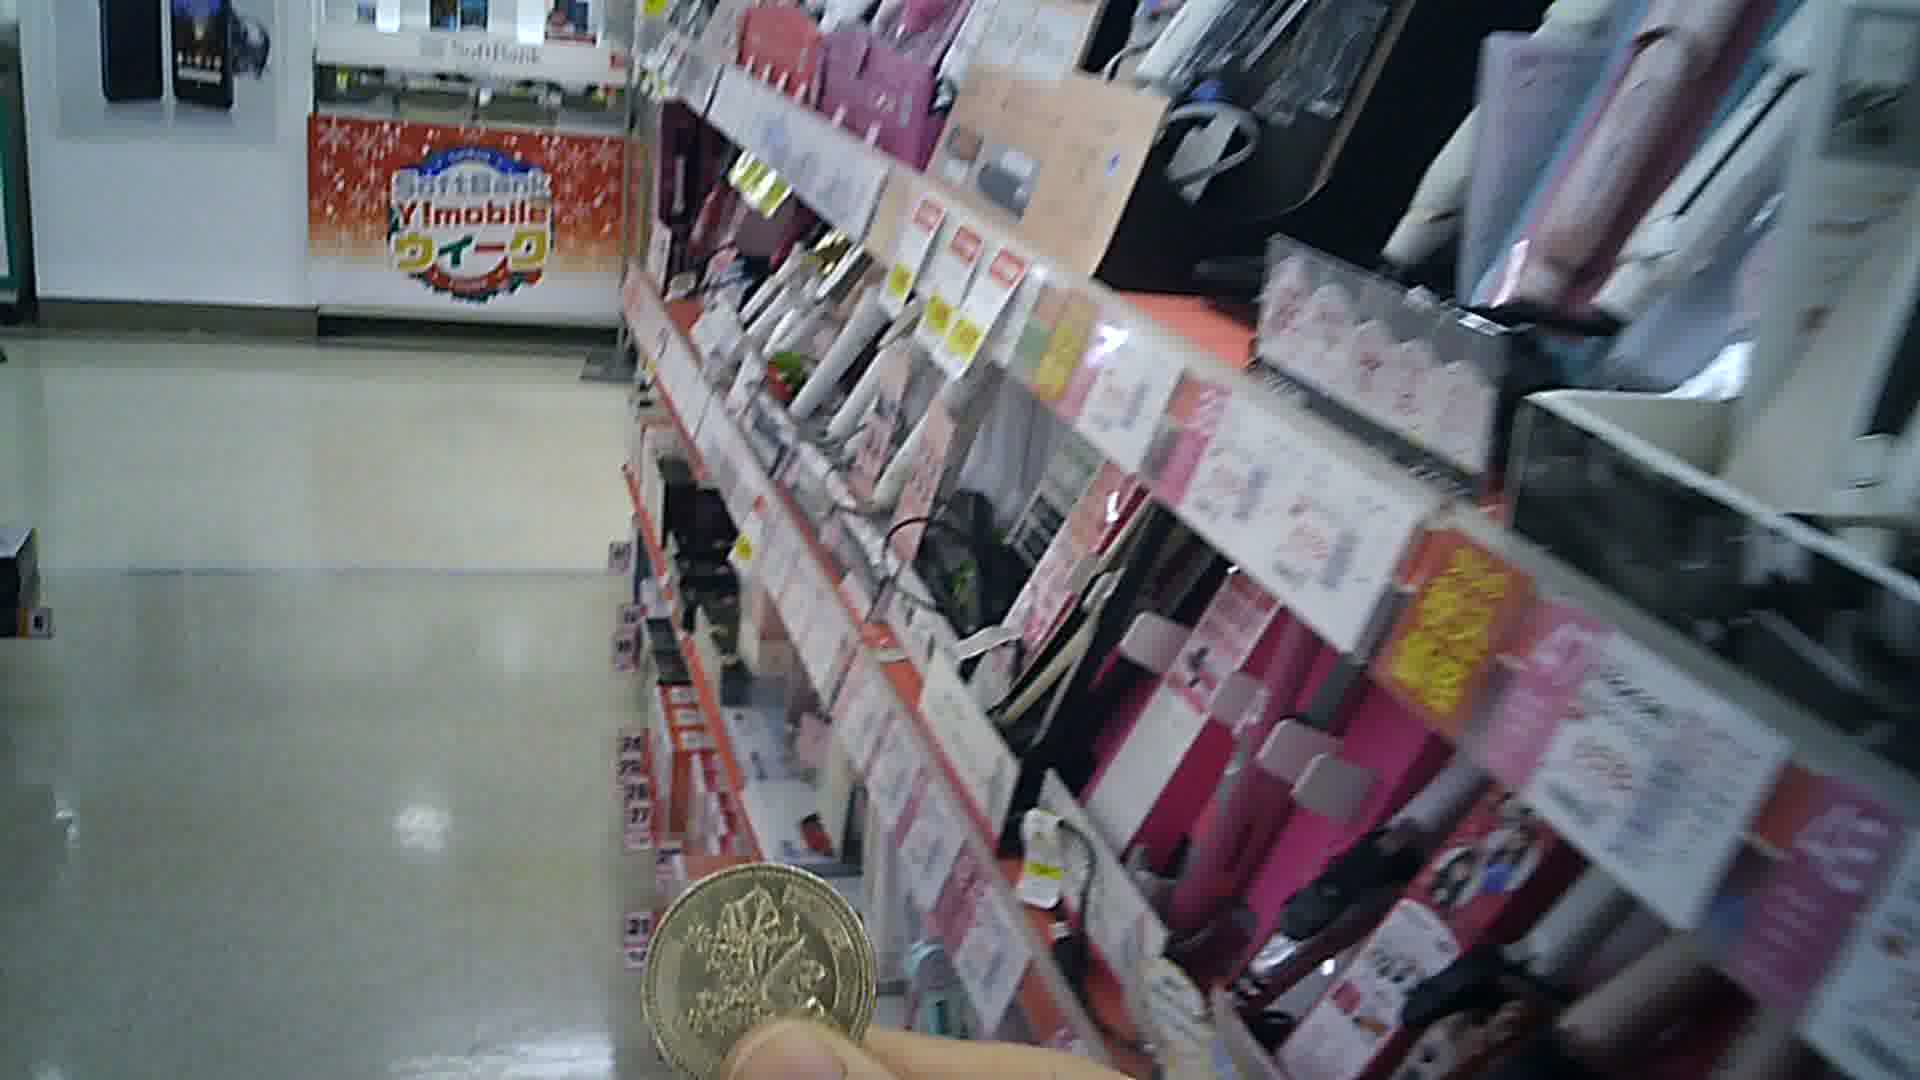500 Yen: (640, 860, 881, 1079)
